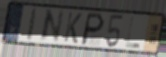5: (105, 14, 124, 49)
I: (26, 8, 40, 43)
K: (62, 11, 83, 46)
L: (124, 16, 141, 50)
N: (38, 9, 66, 44)
P: (79, 12, 106, 47)
